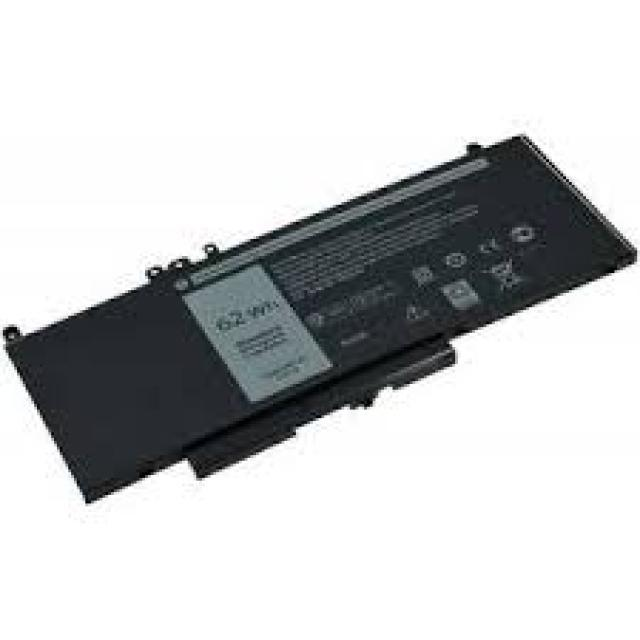Battery: (4, 101, 640, 515)
